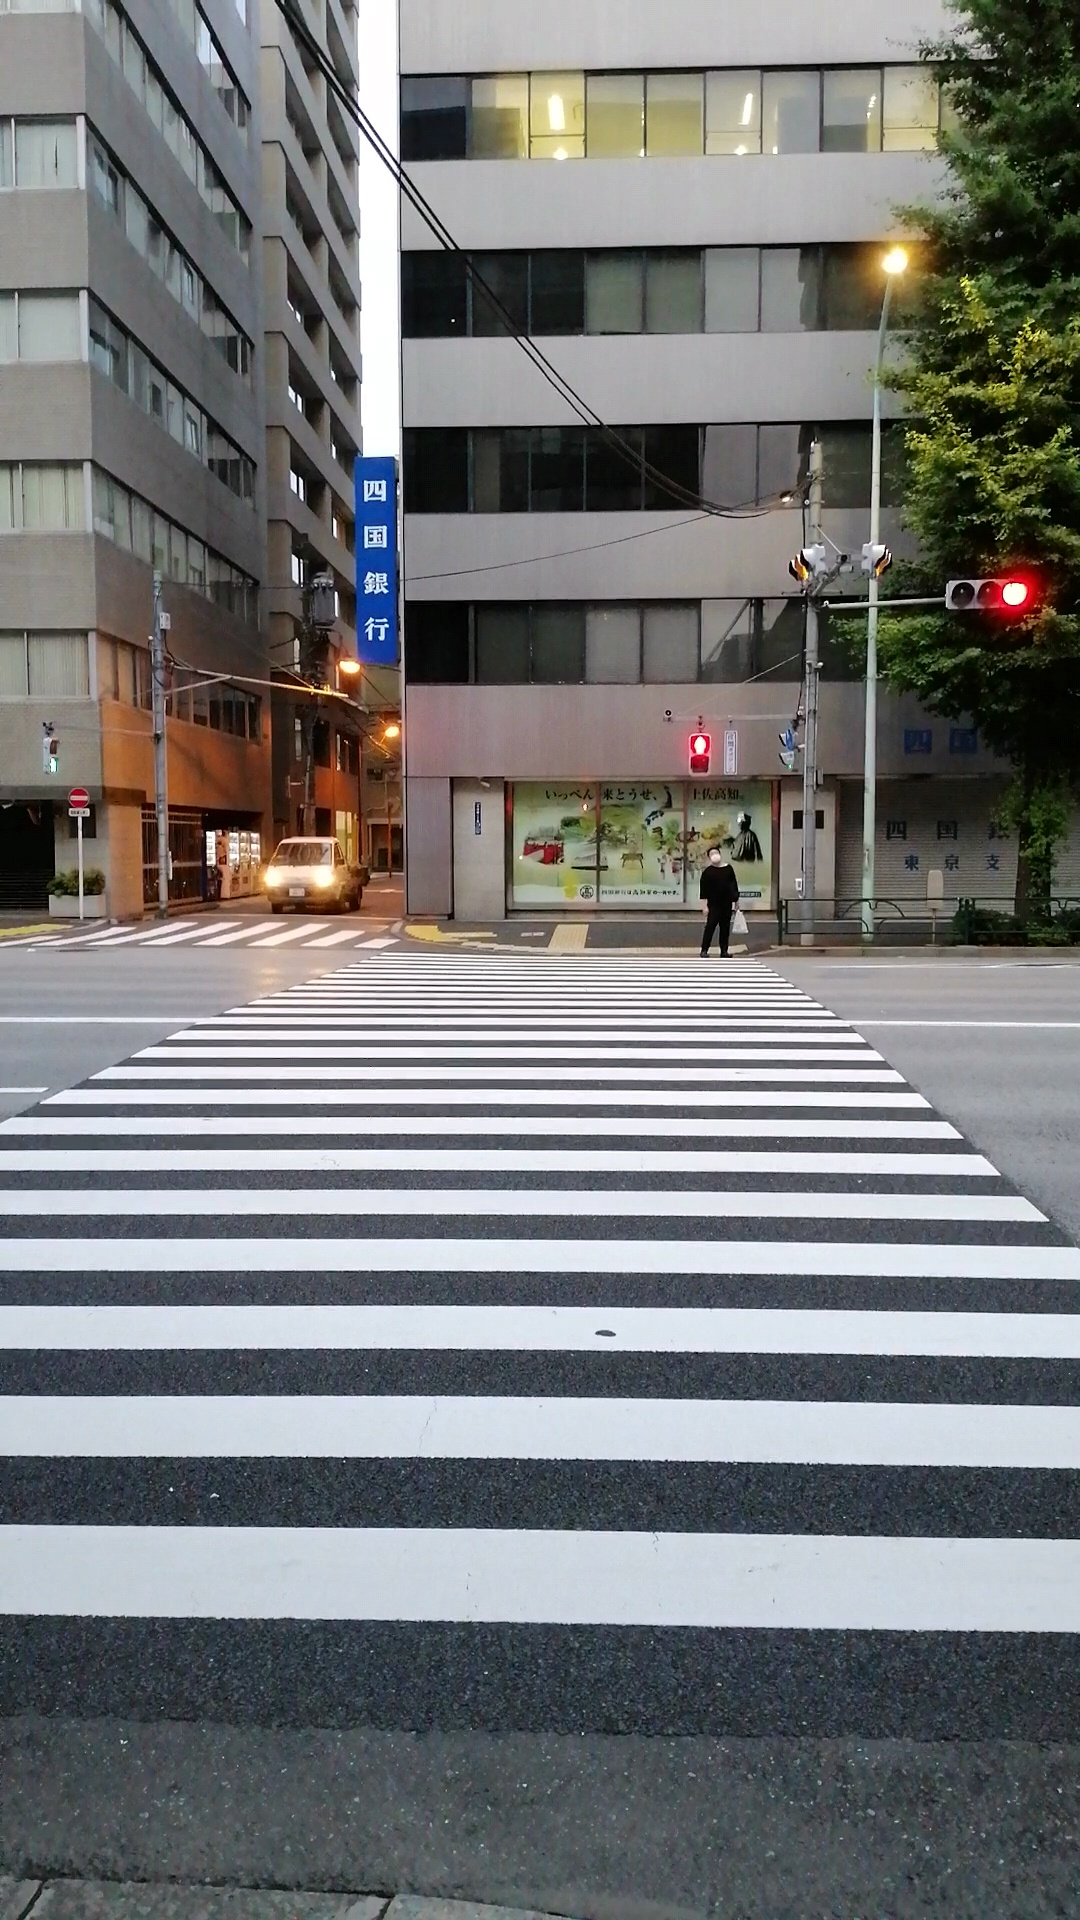red: (686, 732, 712, 777)
